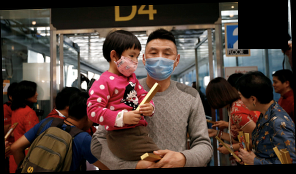with_mask: (145, 45, 177, 80), (116, 51, 140, 78)
without_mask: (272, 78, 286, 94), (28, 88, 40, 104)
